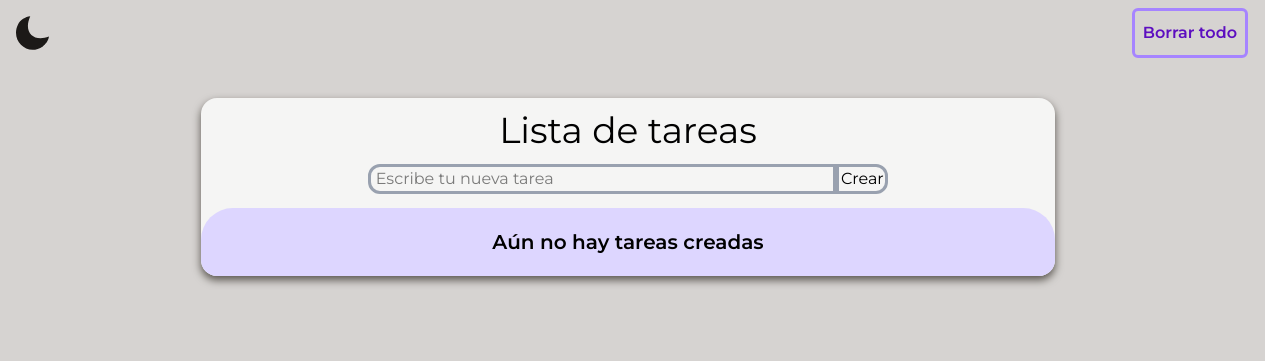
<App /> › Task is creating correctly
In the field with placeholder "Escribe tu nueva tarea": (602, 179) [368,164,836,194], type "testing"
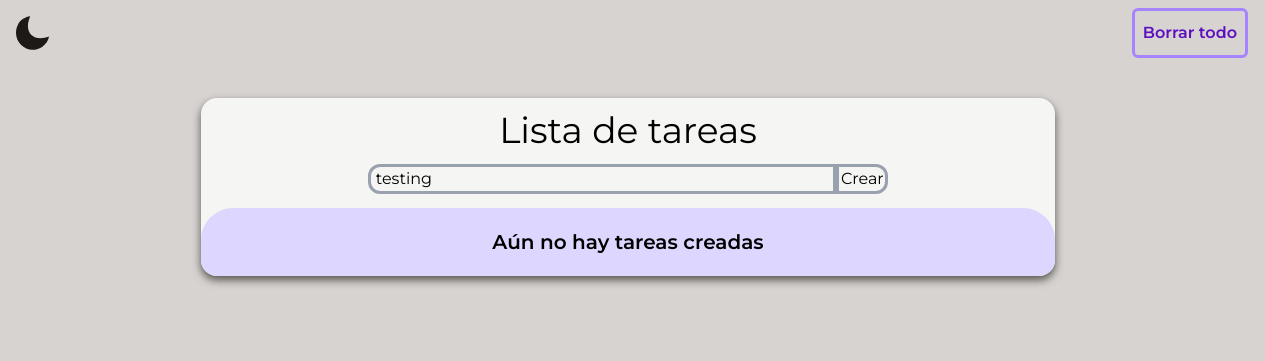
Click the button "Crear": click(862, 179) [836,164,888,194]
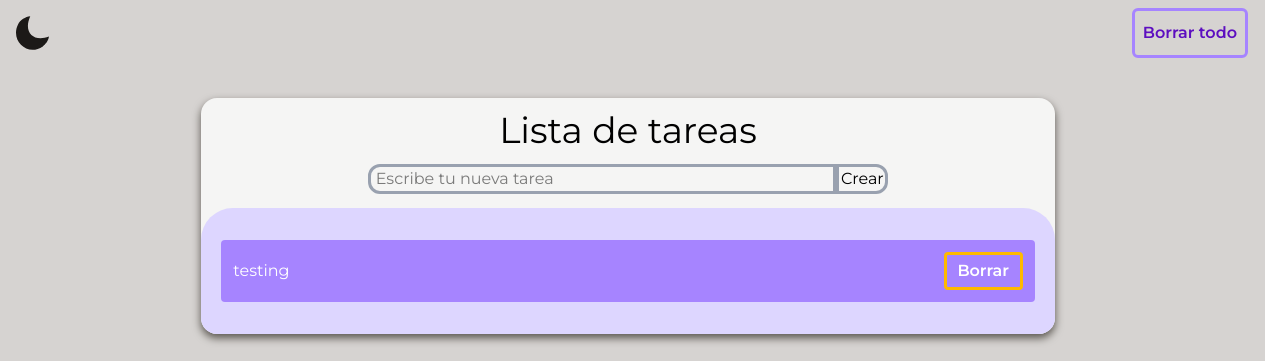
Check: the text "testing" is shown, box [233,261,290,280]
Check: the button "Borrar" is shown
Click the button "Borrar": click(983, 271) [944,252,1023,290]
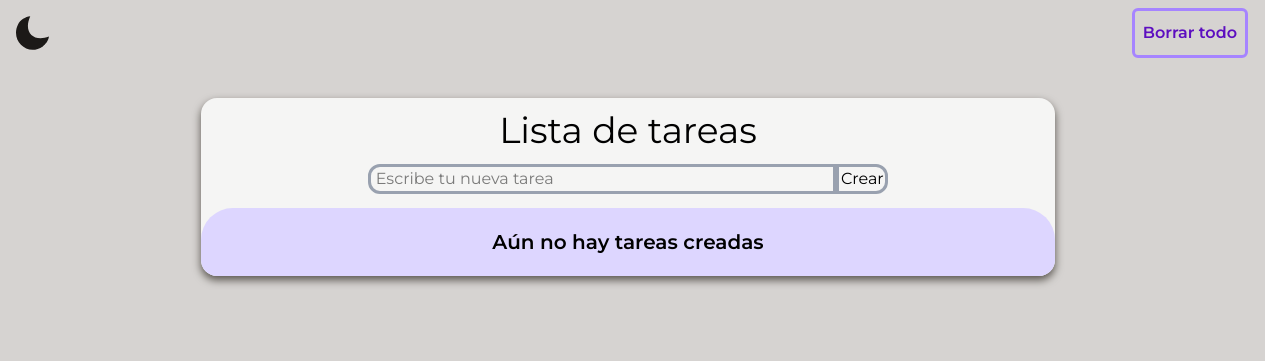
Check: the text "testing" is gone
